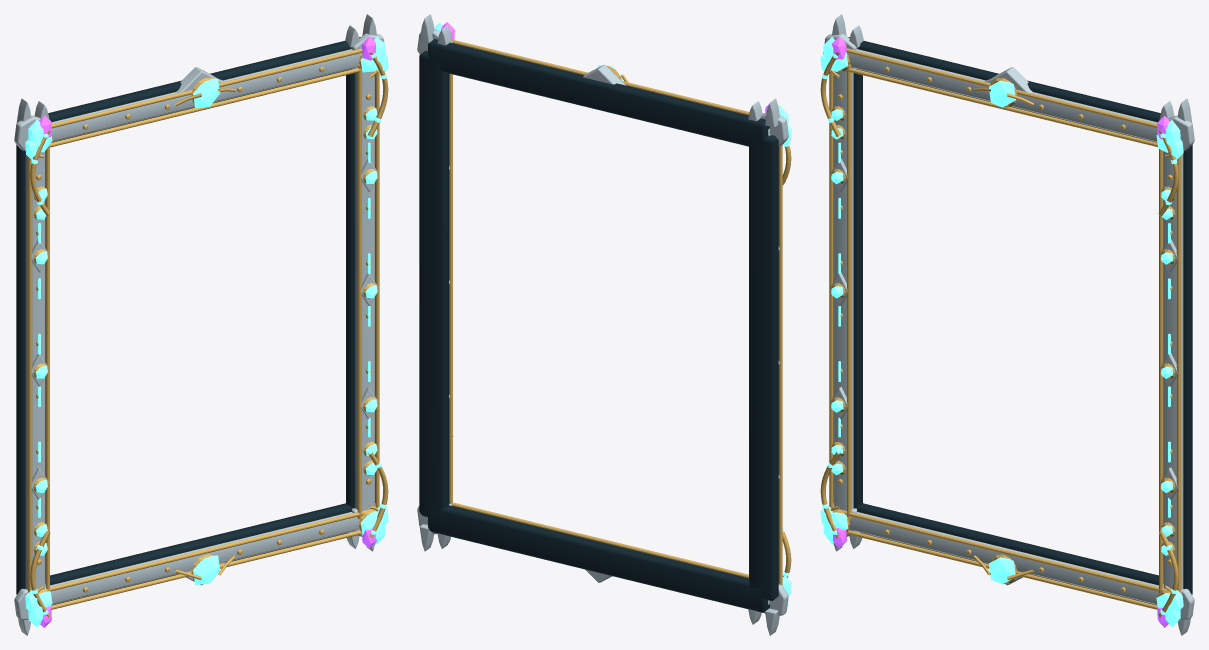
The model's file is card-universe.glb.
3 renders of one model, left to right at view 1: azimuth 30°, elevation 25°; view 2: azimuth 150°, elevation 25°; view 3: azimuth 330°, elevation 25°, orthographic.
Visible parts, largest first — view 1: card-universe / Frame | hammered marine silver, card-universe / Frame | warm cathedral gold, card-universe / Frame | ink enamel recess, card-universe / Gem | abyssal opal, card-universe / Gem | imperial amethyst; view 2: card-universe / Frame | ink enamel recess, card-universe / Frame | warm cathedral gold, card-universe / Frame | hammered marine silver; view 3: card-universe / Frame | hammered marine silver, card-universe / Frame | warm cathedral gold, card-universe / Frame | ink enamel recess, card-universe / Gem | abyssal opal, card-universe / Gem | imperial amethyst.
Boxes of the visible parts, x1,y1,x2,y2 form: card-universe / Frame | hammered marine silver: (14, 14, 385, 635); card-universe / Frame | warm cathedral gold: (28, 48, 388, 617); card-universe / Frame | ink enamel recess: (16, 37, 375, 605); card-universe / Gem | abyssal opal: (25, 37, 388, 626); card-universe / Gem | imperial amethyst: (39, 36, 376, 627); card-universe / Frame | ink enamel recess: (419, 39, 778, 612); card-universe / Frame | warm cathedral gold: (449, 39, 791, 585); card-universe / Frame | hammered marine silver: (417, 14, 788, 635); card-universe / Frame | hammered marine silver: (823, 14, 1194, 635); card-universe / Frame | warm cathedral gold: (820, 48, 1180, 617); card-universe / Frame | ink enamel recess: (833, 37, 1192, 605); card-universe / Gem | abyssal opal: (820, 37, 1183, 626); card-universe / Gem | imperial amethyst: (832, 36, 1169, 627).
Size of the model in its own units: 6.61 by 9.16 by 0.5822.
